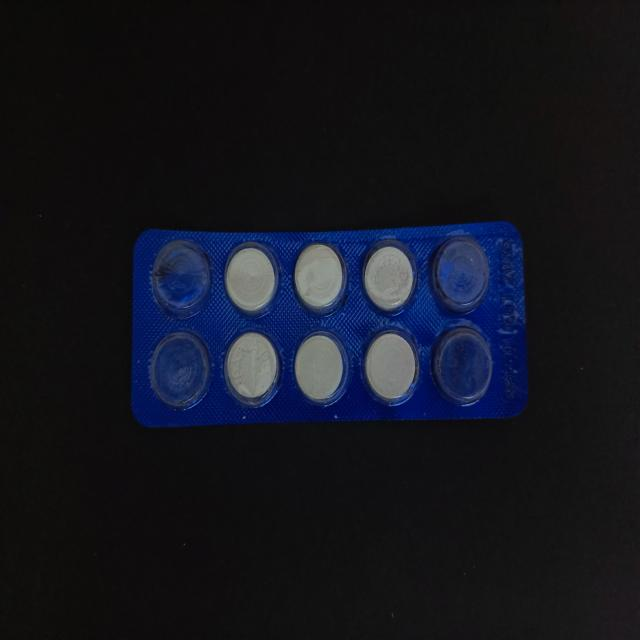defect: (428, 230, 495, 319), (147, 328, 216, 413), (148, 236, 216, 322), (428, 323, 494, 411)
